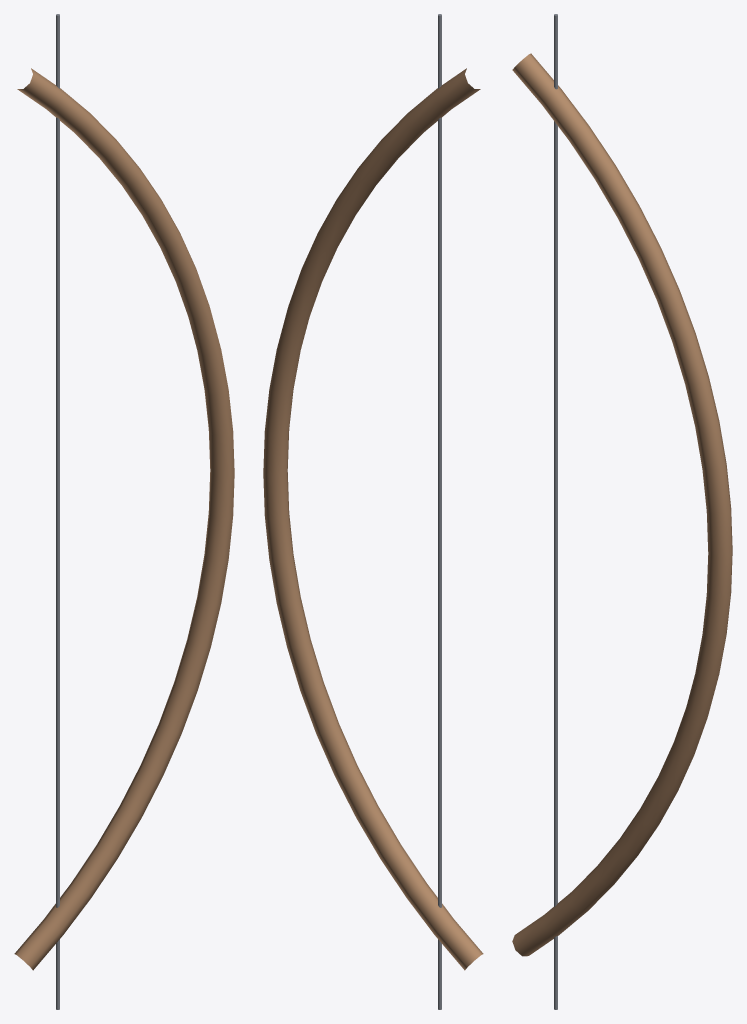
File: bow.glb
3 views of the same model, side by side, from view 1: azimuth 30°, elevation 25°; view 2: azimuth 150°, elevation 25°; view 3: azimuth 330°, elevation 25° (orthographic).
Parts seen in each view (by area): view 1: tor, cyl; view 2: tor, cyl; view 3: tor, cyl.
Boxes of the visible parts, x1=… form: tor: x1=14, y1=68, x2=234, y2=970; cyl: x1=56, y1=14, x2=59, y2=1009; tor: x1=263, y1=68, x2=483, y2=970; cyl: x1=438, y1=14, x2=441, y2=1009; tor: x1=512, y1=53, x2=732, y2=956; cyl: x1=554, y1=14, x2=557, y2=1009.
Size of the model in its own units: 0.2372 by 1.04 by 0.024.
